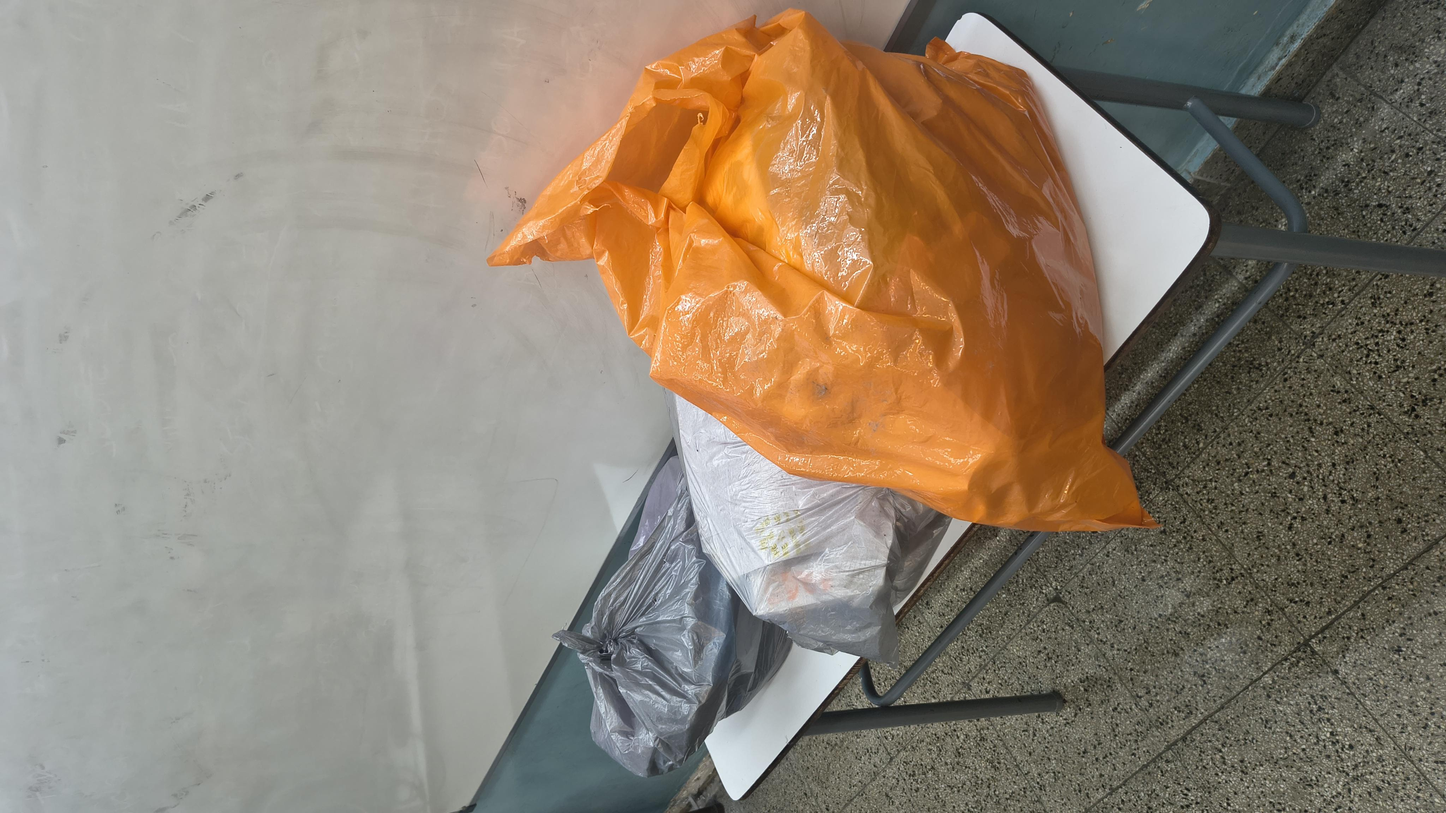Garbage: (477, 258, 1406, 651), (44, 306, 634, 457), (289, 367, 828, 524)
